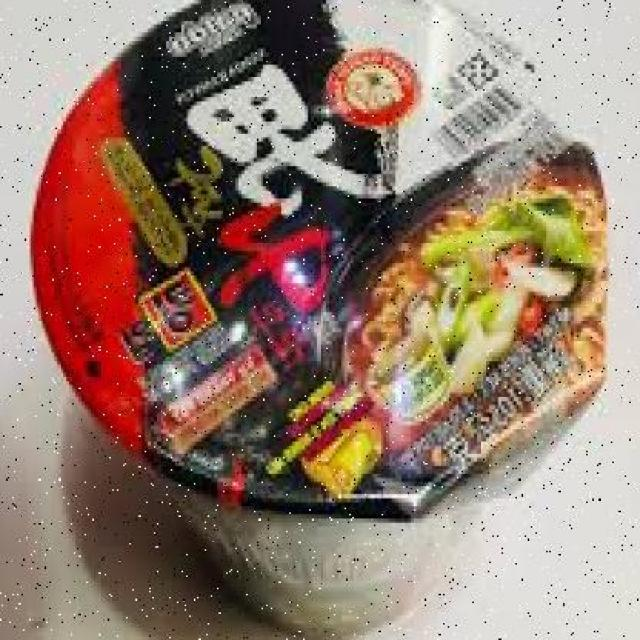Miscellaneous: (43, 0, 614, 635)
